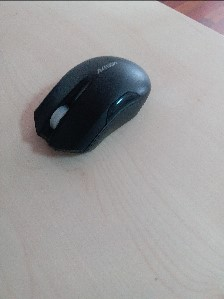mouse: (30, 56, 151, 156)
